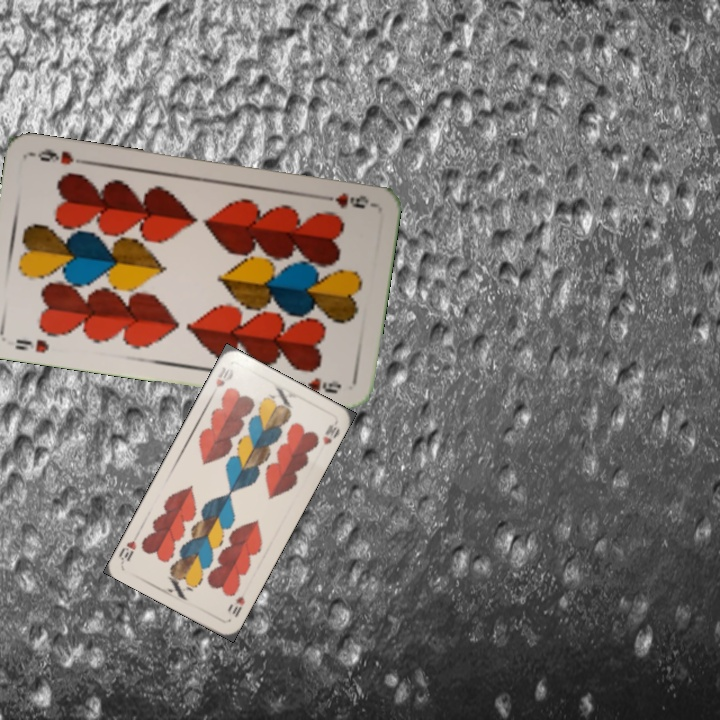H10: (211, 362, 232, 390), (228, 592, 248, 620)
H9: (317, 188, 371, 211), (11, 335, 52, 356)
